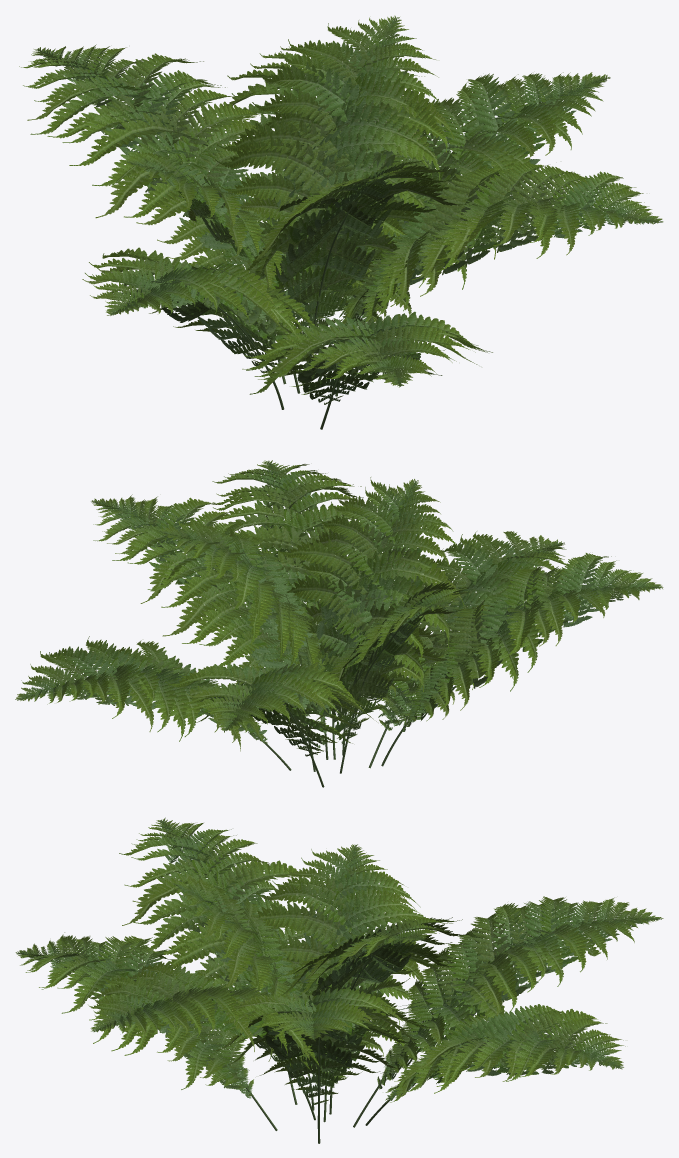
Rendered from fern_02_lod0.glb.
3 renders of one model, top to bottom at view 1: azimuth 30°, elevation 25°; view 2: azimuth 150°, elevation 25°; view 3: azimuth 270°, elevation 25°, orthographic. The views are drawn at different scales.
Visible parts, largest first — view 1: AE_15TH_FERN_02_LOD0; view 2: AE_15TH_FERN_02_LOD0; view 3: AE_15TH_FERN_02_LOD0.
Boxes of the visible parts, left/top/right/bottom form: AE_15TH_FERN_02_LOD0: left=19, top=15, right=663, bottom=429; AE_15TH_FERN_02_LOD0: left=15, top=460, right=663, bottom=787; AE_15TH_FERN_02_LOD0: left=15, top=817, right=663, bottom=1143.
Size of the model in its own units: 0.4647 by 0.2303 by 0.522.
4 materials, 4 textured.
